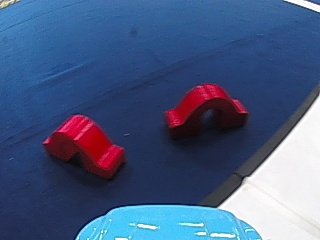bridge: (41, 112, 130, 181), (159, 79, 251, 137)
